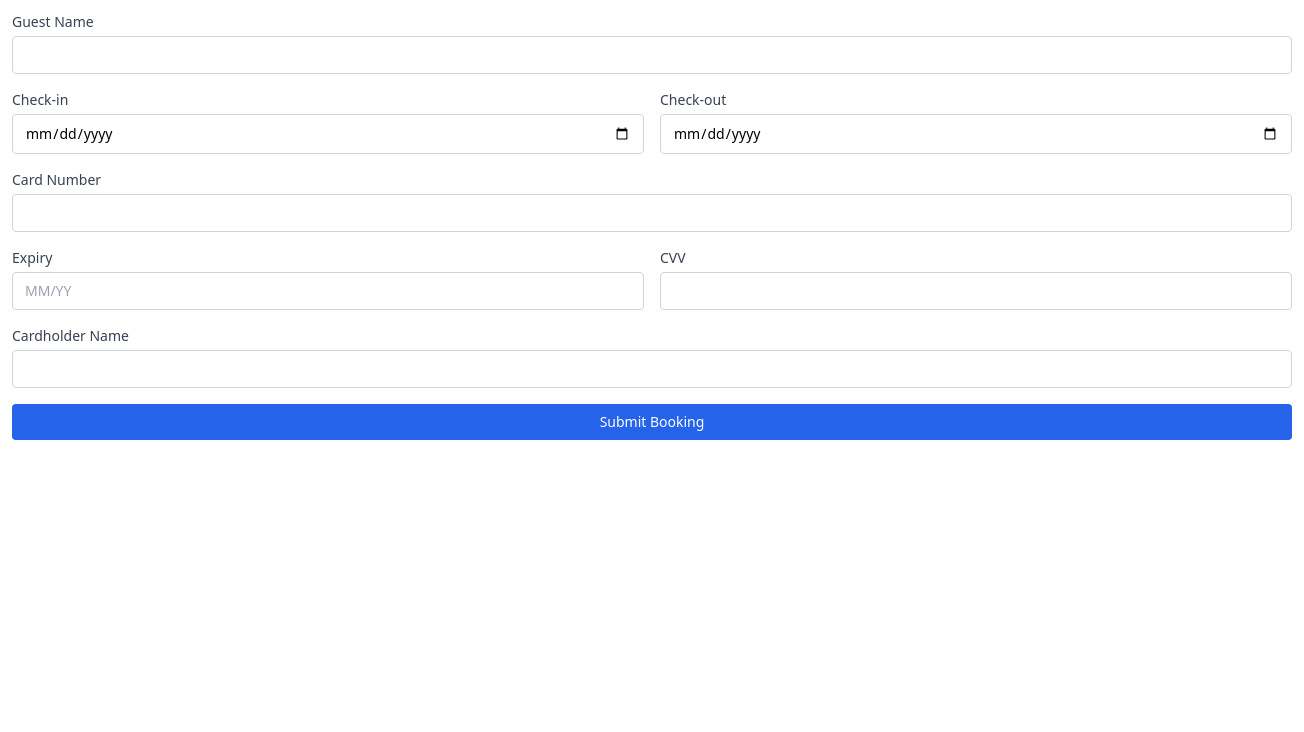
Scenario: check-out not after check-in shows an error
Type "2026-12-05" into the date field labelled "Check-in".
click(328, 134); type("2026-12-05")  # box [12,114,644,154]
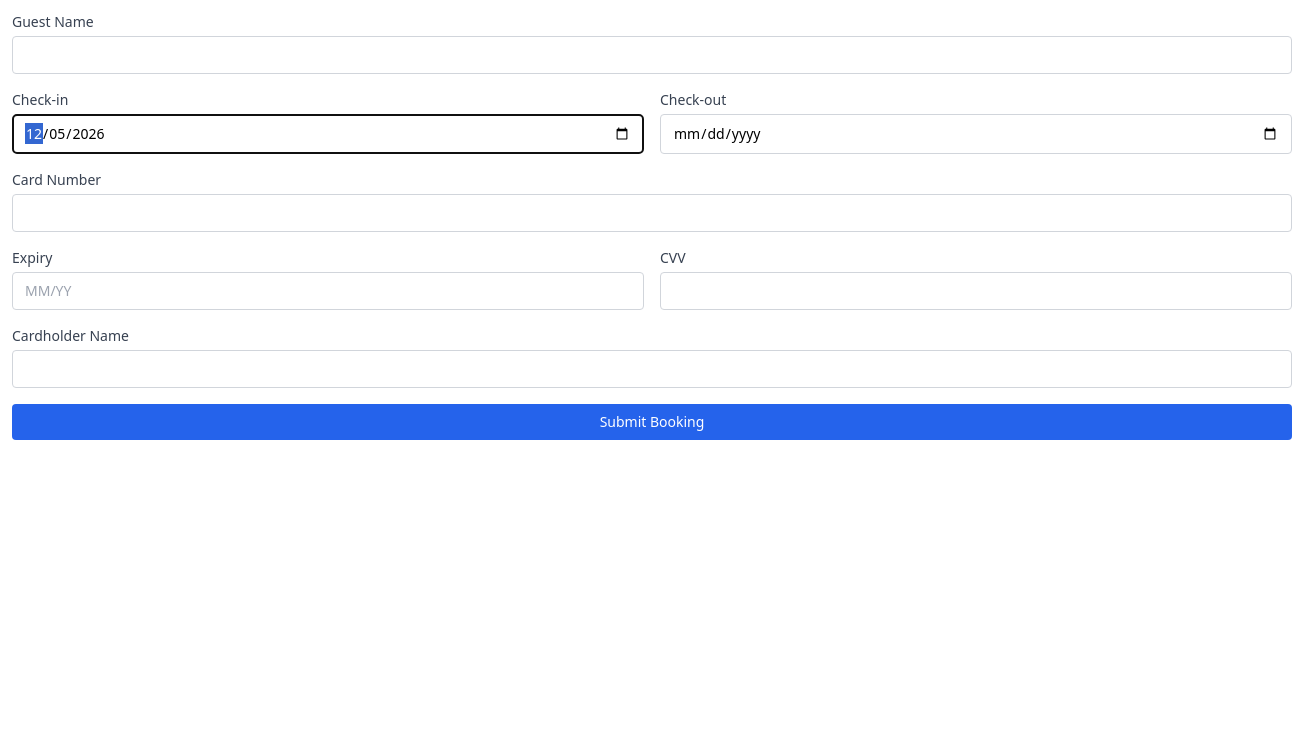
Type "2026-12-01" into the date field labelled "Check-out".
click(976, 134); type("2026-12-01")  # box [660,114,1292,154]
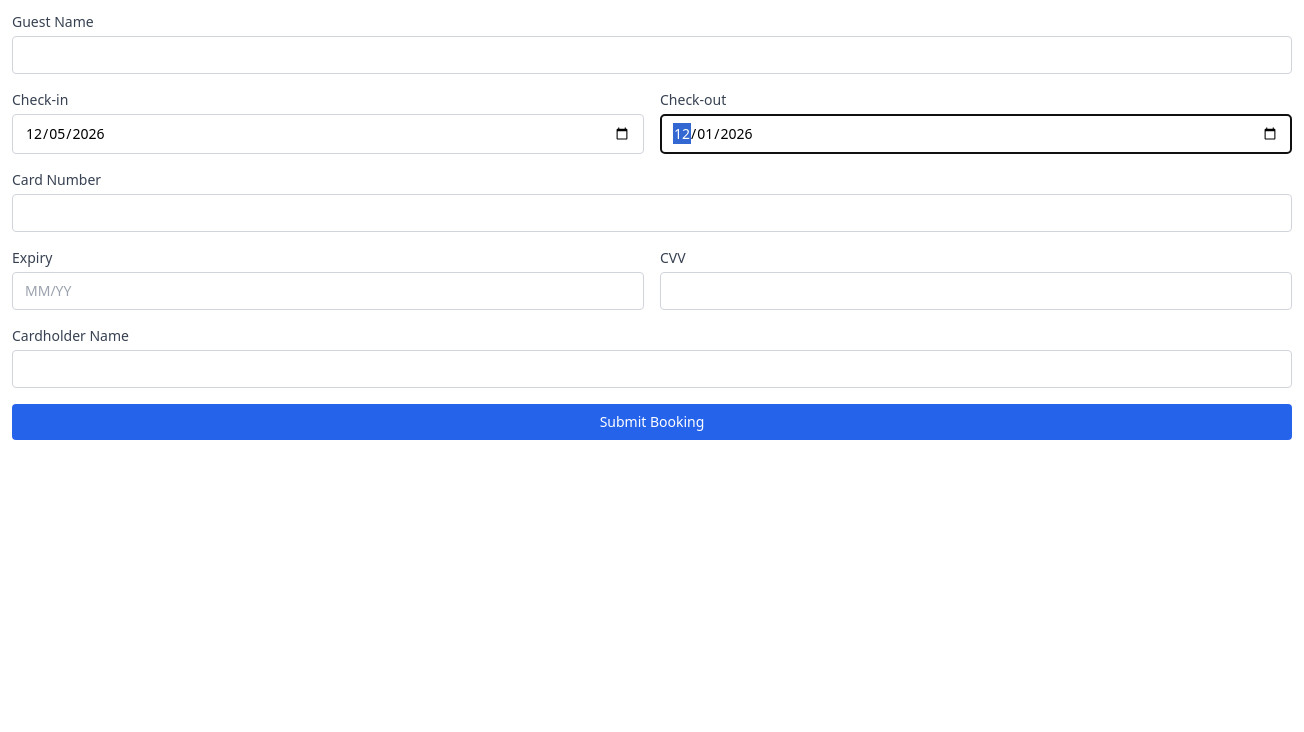
Click the button "Submit Booking".
click(652, 422)  # box [12,404,1292,440]
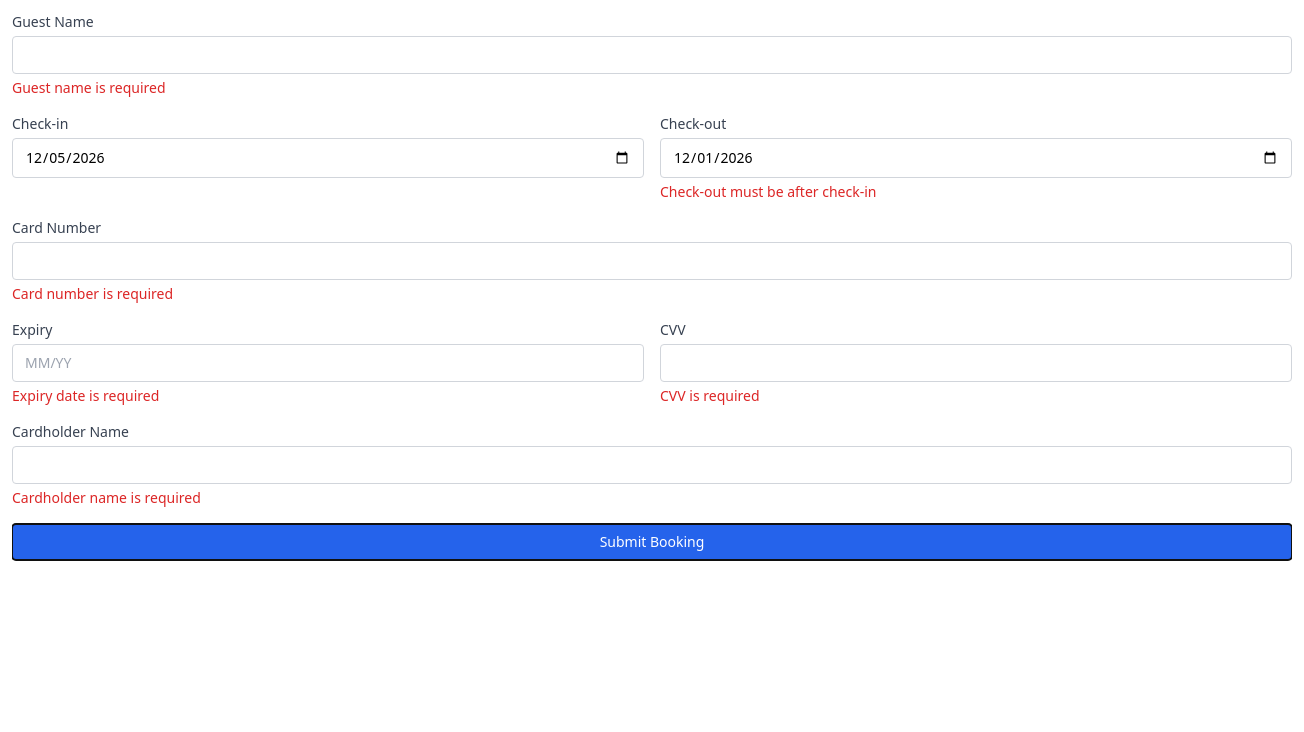
Result: the text "Check-out must be after check-in" is shown at [660,182,876,201]
